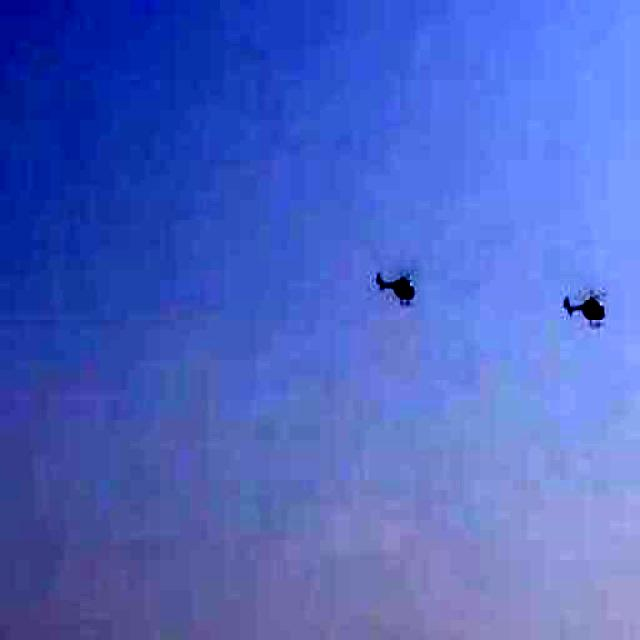drone: (549, 279, 615, 335), (372, 256, 424, 312)
